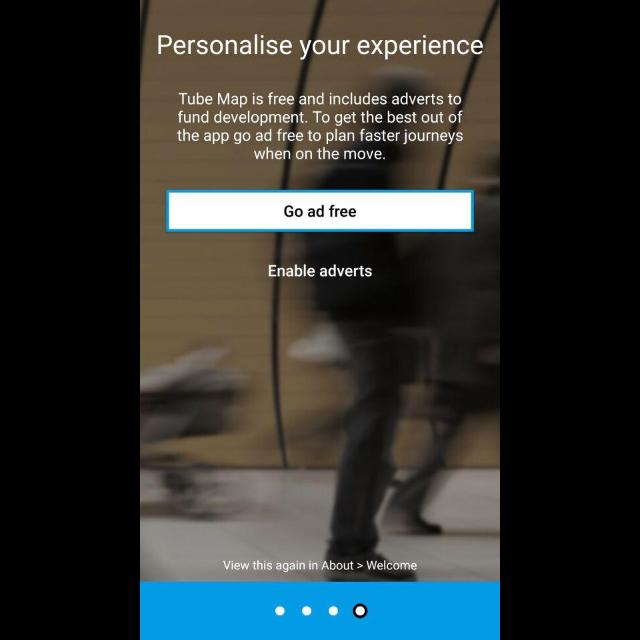backgroundimage: (140, 1, 500, 581)
pageindicator: (274, 602, 368, 620)
text: (176, 92, 464, 162), (158, 33, 484, 61), (222, 559, 418, 573), (267, 264, 373, 278)
textbutton: (166, 190, 474, 232)
